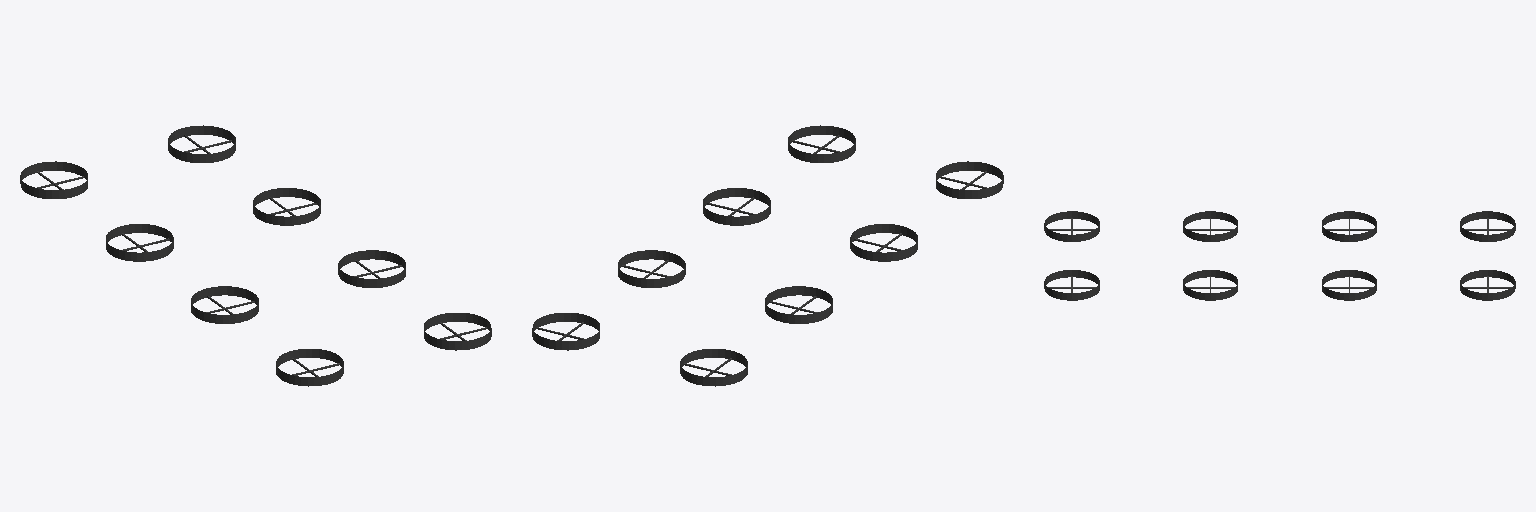
URDF robot description (2x1):
<?xml version="1.0"?>
<robot name="2x1">
    <properties arm="0.0397" kf="3.16e-10" km="7.94e-12" thrust2weight="2.25" max_speed_kmh="30" gnd_eff_coeff="11.36859" prop_radius="2.31348e-2" drag_coeff_xy="9.1785e-7" drag_coeff_z="10.311e-7" dw_coeff_1="2267.18" dw_coeff_2=".16" dw_coeff_3="-.11" />
    <link name="robot_base">
        <!-- TODO: Change inertial and mass values -->
        <inertial>
            <!-- <origin rpy="-3.141593 3.141593 -3.141593" xyz="-0.100000 -0.100000 0.350000" /> -->
            <!-- <origin rpy="0 -1.5707965 0" xyz="0 0 0" /> -->
            <!-- 0.005428000000000001 2.8e-05 0.005443400000000001 -->
            <origin rpy="0 0 0" xyz="0 0 0" />
            <inertia ixx="0.020028000000000004" ixz="0.0" ixy="0.0" iyy="2.8e-05" iyz="0.0" izz="0.020043400000000003" />
            <mass value="0.270" />
        </inertial>
        <collision name="MultiRotor">
            <origin xyz="0 0 0" rpy="0 0 0" />
            <geometry>
                <box size="0.2 0.4 0.08" />
            </geometry>
        </collision>
        <visual name="Shape2">
            <origin xyz="0 0.1 0.024" rpy="0 -1.5707965 0" />
            <geometry>
                <mesh filename="./2x1_Shape2_vis_1.dae" />
            </geometry>
            <material name="Shape2_material">
                <color rgba="1.000000 1.000000 1.000000 1.0" />
            </material>
        </visual>
        <visual name="Shape1">
            <origin xyz="0 -0.1 0.024" rpy="0 -1.5707965 0" />
            <geometry>
                <mesh filename="./2x1_Shape1_vis_1.dae" />
            </geometry>
            <material name="Shape1_material">
                <color rgba="1.000000 1.000000 1.000000 1.0" />
            </material>
        </visual>
    </link>

    <joint name="propeller1" type="fixed">
        <parent link="robot_base" />
        <child link="propellerrespondable1" />
        <origin rpy="0 0 0" xyz="0.05 0.05 0.012000" />
    </joint>
    <link name="propellerrespondable1">
        <inertial>
            
            <mass value="0"/>
            <inertia ixx="0" ixy="0" ixz="0" iyy="0" iyz="0" izz="0"/>
        </inertial>
        <collision name="propeller_respondable1">
            <origin xyz="-0.000000 0.000000 0.012000" rpy="0 0 0" />
            <geometry>
                <cylinder length="0.0075362827628851" radius="0.024999996647239" />
            </geometry>
        </collision>
        <visual name="propeller_body">
            <!-- <origin rpy="0 0 0" xyz="0.05 0.05 0.012000" /> -->
            <geometry>
                <mesh filename="./2x1_propellerbody_vis_1.dae" />
            </geometry>
            <material name="propellerbody_material">
                <color rgba="0.288235 0.288235 0.288235 1.0" />
            </material>
        </visual>
    </link>

    <joint name="propeller2" type="fixed">
        <parent link="robot_base" />
        <child link="propellerrespondable2" />
        <origin rpy="0 0 0" xyz="-0.05 0.05 0.012000" />
    </joint>
    <link name="propellerrespondable2">
        <inertial>
            
            <mass value="0"/>
            <inertia ixx="0" ixy="0" ixz="0" iyy="0" iyz="0" izz="0"/>
        </inertial>
        <collision name="propeller_respondable2">
            <origin xyz="-0.000000 0.000000 0.012000" rpy="0 0 0" />
            <geometry>
                <cylinder length="0.0075362827628851" radius="0.024999996647239" />
            </geometry>
        </collision>
        <visual name="propeller_body">
            <!-- <origin rpy="0 0 0" xyz="-0.05 0.05 0.012000" /> -->
            <geometry>
                <mesh filename="./2x1_propellerbody_vis_1.dae" />
            </geometry>
            <material name="propellerbody_material">
                <color rgba="0.288235 0.288235 0.288235 1.0" />
            </material>
        </visual>
    </link>

    <joint name="propeller3" type="fixed">
        <parent link="robot_base" />
        <child link="propellerrespondable3" />
        <origin rpy="0 0 0" xyz="-0.05 0.15 0.012000" />
    </joint>
    <link name="propellerrespondable3">
        <inertial>
            
            <mass value="0"/>
            <inertia ixx="0" ixy="0" ixz="0" iyy="0" iyz="0" izz="0"/>
        </inertial>
        <collision name="propeller_respondable3">
            <origin xyz="-0.000000 0.000000 0.012000" rpy="0 0 0" />
            <geometry>
                <cylinder length="0.0075362827628851" radius="0.024999996647239" />
            </geometry>
        </collision>
        <visual name="propeller_body">
            <!-- <origin rpy="0 0 0" xyz="-0.05 0.15 0.012000" /> -->
            <geometry>
                <mesh filename="./2x1_propellerbody_vis_1.dae" />
            </geometry>
            <material name="propellerbody_material">
                <color rgba="0.288235 0.288235 0.288235 1.0" />
            </material>
        </visual>
    </link>
    
    <joint name="propeller4" type="fixed">
        <parent link="robot_base" />
        <child link="propellerrespondable4" />
        <origin rpy="0 0 0" xyz="0.05 0.15 0.012000" />
    </joint>
    <link name="propellerrespondable4">
        <inertial>
            
            <mass value="0"/>
            <inertia ixx="0" ixy="0" ixz="0" iyy="0" iyz="0" izz="0"/>
        </inertial>
        <collision name="propeller_respondable3">
            <!-- <origin xyz="-0.000000 0.000000 0.012000" rpy="0 0 0" /> -->
            <geometry>
                <cylinder length="0.0075362827628851" radius="0.024999996647239" />
            </geometry>
        </collision>
        <visual name="propeller_body">
            <!-- <origin rpy="0 0 0" xyz="0.05 0.15 0.012000" /> -->
            <geometry>
                <mesh filename="./2x1_propellerbody_vis_1.dae" />
            </geometry>
            <material name="propellerbody_material">
                <color rgba="0.288235 0.288235 0.288235 1.0" />
            </material>
        </visual>
    </link>

    <joint name="propeller5" type="fixed">
        <parent link="robot_base" />
        <child link="propellerrespondable5" />
        <origin rpy="0 0 0" xyz="0.05 -0.15 0.012000" />
    </joint>
    <link name="propellerrespondable5">
        <inertial>
            
            <mass value="0"/>
            <inertia ixx="0" ixy="0" ixz="0" iyy="0" iyz="0" izz="0"/>
        </inertial>
        <collision name="propeller_respondable3">
            <origin xyz="-0.000000 0.000000 0.012000" rpy="0 0 0" />
            <geometry>
                <cylinder length="0.0075362827628851" radius="0.024999996647239" />
            </geometry>
        </collision>
        <visual name="propeller_body">
            <!-- <origin rpy="0 0 0" xyz="0.05 -0.15 0.012000" /> -->
            <geometry>
                <mesh filename="./2x1_propellerbody_vis_1.dae" />
            </geometry>
            <material name="propellerbody_material">
                <color rgba="0.288235 0.288235 0.288235 1.0" />
            </material>
        </visual>
    </link>

    <joint name="propeller6" type="fixed">
        <parent link="robot_base" />
        <child link="propellerrespondable6" />
        <origin rpy="0 0 0" xyz="-0.05 -0.15 0.012000" />
    </joint>
    <link name="propellerrespondable6">
        <inertial>
            
            <mass value="0"/>
            <inertia ixx="0" ixy="0" ixz="0" iyy="0" iyz="0" izz="0"/>
        </inertial>
        <collision name="propeller_respondable3">
            <origin rpy="0 0 0" xyz="-0.028 -0.086 0.012000" />
            <geometry>
                <cylinder length="0.0075362827628851" radius="0.024999996647239" />
            </geometry>
        </collision>
        <visual name="propeller_body">
            <!-- <origin rpy="0 0 0" xyz="-0.05 -0.15 0.012000" /> -->
            <geometry>
                <mesh filename="./2x1_propellerbody_vis_1.dae" />
            </geometry>
            <material name="propellerbody_material">
                <color rgba="0.288235 0.288235 0.288235 1.0" />
            </material>
        </visual>
    </link>

    <joint name="propeller7" type="fixed">
        <parent link="robot_base" />
        <child link="propellerrespondable7" />
        <origin rpy="0 0 0" xyz="-0.05 -0.05 0.012000" />
    </joint>
    <link name="propellerrespondable7">
        <inertial>
            
            <mass value="0"/>
            <inertia ixx="0" ixy="0" ixz="0" iyy="0" iyz="0" izz="0"/>
        </inertial>
        <collision name="propeller_respondable3">
            <origin rpy="0 0 0" xyz="0.028 -0.03 0.012000" />
            <geometry>
                <cylinder length="0.0075362827628851" radius="0.024999996647239" />
            </geometry>
        </collision>
        <visual name="propeller_body">
            <!-- <origin rpy="0 0 0" xyz="-0.05 -0.05 0.012000" /> -->
            <geometry>
                <mesh filename="./2x1_propellerbody_vis_1.dae" />
            </geometry>
            <material name="propellerbody_material">
                <color rgba="0.288235 0.288235 0.288235 1.0" />
            </material>
        </visual>
    </link>

    <joint name="propeller8" type="fixed">
        <parent link="robot_base" />
        <child link="propellerrespondable8" />
        <origin rpy="0 0 0" xyz="0.05 -0.05 0.012000" />
    </joint>
    <link name="propellerrespondable8">
        <inertial>
            
            <mass value="0"/>
            <inertia ixx="0" ixy="0" ixz="0" iyy="0" iyz="0" izz="0"/>
        </inertial>
        <collision name="propeller_respondable3">
            <origin xyz="-0.000000 0.000000 0.012000" rpy="0 0 0" />
            <geometry>
                <cylinder length="0.0075362827628851" radius="0.024999996647239" />
            </geometry>
        </collision>
        <visual name="propeller_body">
            <!-- <origin rpy="0 0 0" xyz="0.05 -0.05 0.012000" /> -->
            <geometry>
                <mesh filename="./2x1_propellerbody_vis_1.dae" />
            </geometry>
            <material name="propellerbody_material">
                <color rgba="0.288235 0.288235 0.288235 1.0" />
            </material>
        </visual>
    </link>
</robot>

--- Render facts (derived) ---
The picture shows the robot from 3 angles, left to right: view 1: azimuth 30°, elevation 25°; view 2: azimuth 150°, elevation 25°; view 3: azimuth 270°, elevation 25°; orthographic projection.
Robot: 2x1 — 9 links, 8 joints (8 fixed); root link robot_base; default pose: every joint at zero.
Links seen in each view (by area): view 1: propellerrespondable2, propellerrespondable7, propellerrespondable8, propellerrespondable1, propellerrespondable4, propellerrespondable6, propellerrespondable5, propellerrespondable3; view 2: propellerrespondable2, propellerrespondable1, propellerrespondable7, propellerrespondable8, propellerrespondable3, propellerrespondable5, propellerrespondable4, propellerrespondable6; view 3: propellerrespondable4, propellerrespondable5, propellerrespondable3, propellerrespondable6, propellerrespondable1, propellerrespondable8, propellerrespondable2, propellerrespondable7.
Boxes of the visible links, x1,y1,x2,y2 form: propellerrespondable2: (106, 224, 173, 261); propellerrespondable7: (191, 286, 258, 323); propellerrespondable8: (338, 250, 405, 287); propellerrespondable1: (253, 188, 320, 225); propellerrespondable4: (168, 125, 235, 162); propellerrespondable6: (276, 349, 343, 386); propellerrespondable5: (424, 313, 491, 350); propellerrespondable3: (20, 161, 87, 198); propellerrespondable2: (765, 286, 832, 323); propellerrespondable1: (618, 250, 685, 287); propellerrespondable7: (850, 224, 917, 261); propellerrespondable8: (703, 188, 770, 225); propellerrespondable3: (680, 349, 747, 386); propellerrespondable5: (788, 125, 855, 162); propellerrespondable4: (532, 313, 599, 350); propellerrespondable6: (936, 161, 1003, 198); propellerrespondable4: (1460, 270, 1515, 300); propellerrespondable5: (1044, 270, 1099, 300); propellerrespondable3: (1460, 211, 1515, 241); propellerrespondable6: (1044, 211, 1099, 241); propellerrespondable1: (1322, 270, 1376, 300); propellerrespondable8: (1183, 270, 1237, 300); propellerrespondable2: (1322, 211, 1376, 241); propellerrespondable7: (1183, 211, 1237, 241).
Bounding box of the posed robot: 0.14 × 0.34 × 0.006 m (x, y, z).
8 mesh visuals loaded from 3 distinct referenced files (1 Collada DAE); not drawn: 2 (reference not matched to a file when rendering).